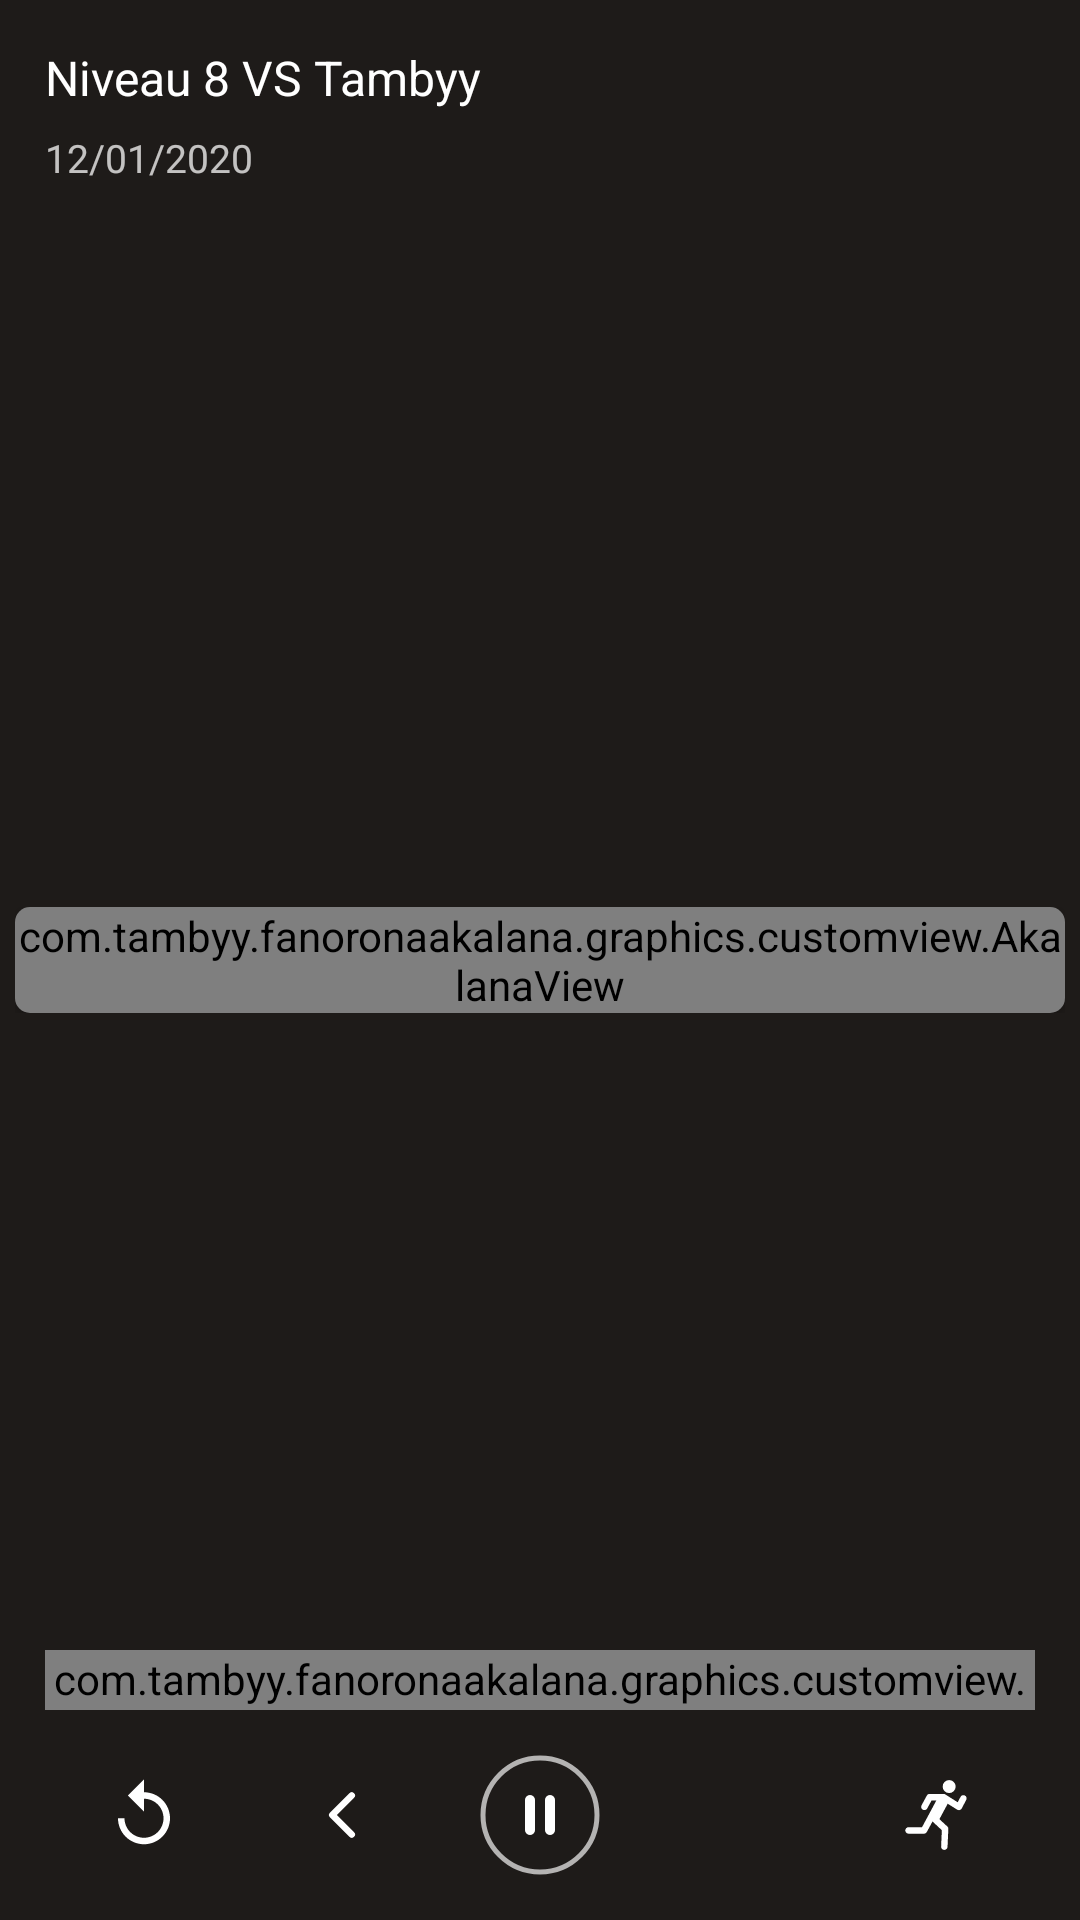

Point at icon controls on the screen. Image size 1080x1920, points as [x,y].
game history prev: [342,1815]
review pause: [540,1815]
review replay: [144,1812]
review speed: [936,1815]
